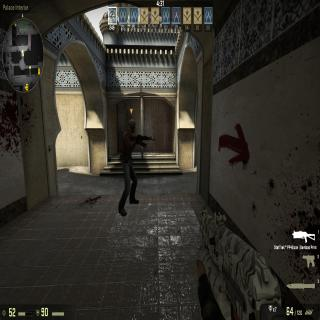T-Body: (120, 118, 138, 216)
T-Head: (128, 119, 136, 134)
